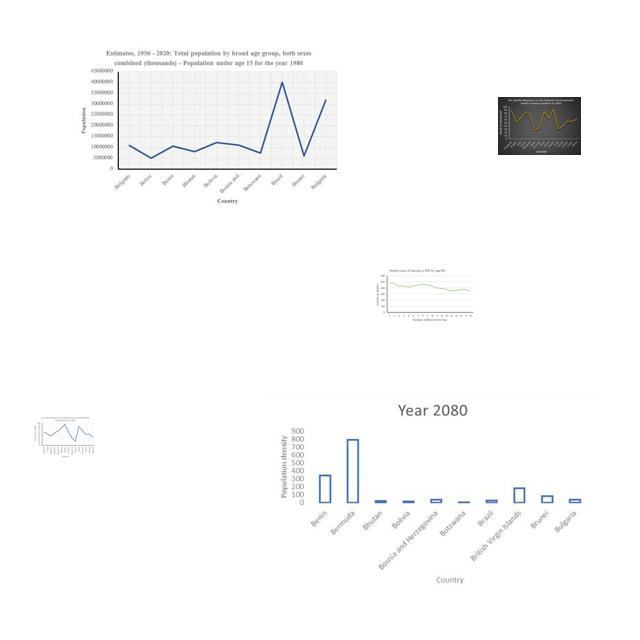Graph: (268, 393, 596, 593), (78, 47, 342, 206), (374, 268, 475, 322), (498, 97, 581, 155), (33, 415, 96, 459)
